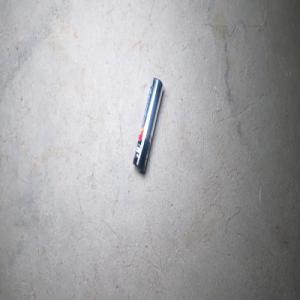Battery: (132, 77, 164, 173)
